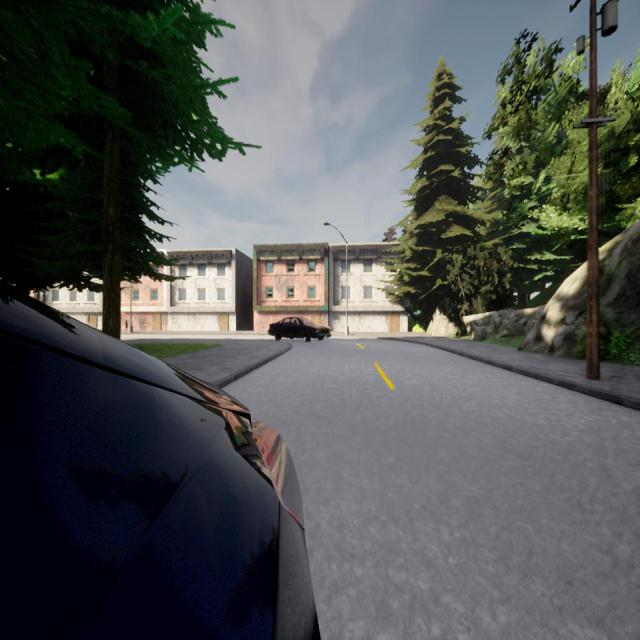Pedestrian: (125, 320, 128, 333)
Vehicle: (0, 304, 319, 640), (268, 316, 332, 342)
